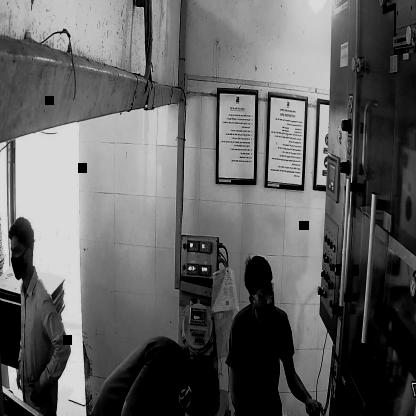goggles: (250, 284, 275, 304)
no_goggles: (9, 244, 29, 258)
